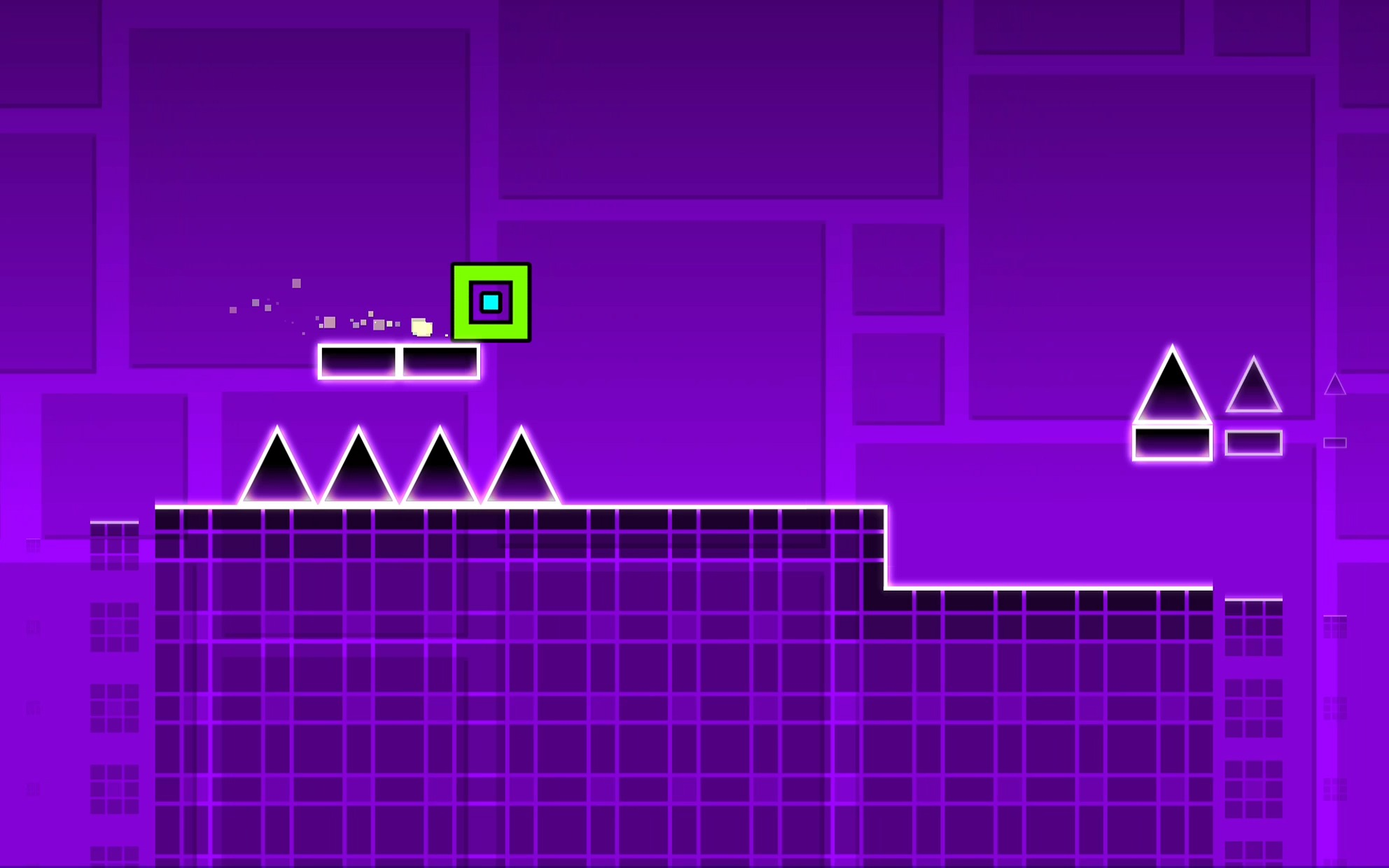Block2: (154, 506, 894, 868), (877, 588, 1289, 866)
Block3: (312, 346, 478, 381), (1132, 425, 1213, 461)
Player: (450, 264, 529, 340)
Spike: (1134, 344, 1213, 440), (243, 428, 316, 505), (489, 428, 561, 504), (322, 429, 394, 504), (404, 429, 475, 504), (1227, 356, 1282, 410)
